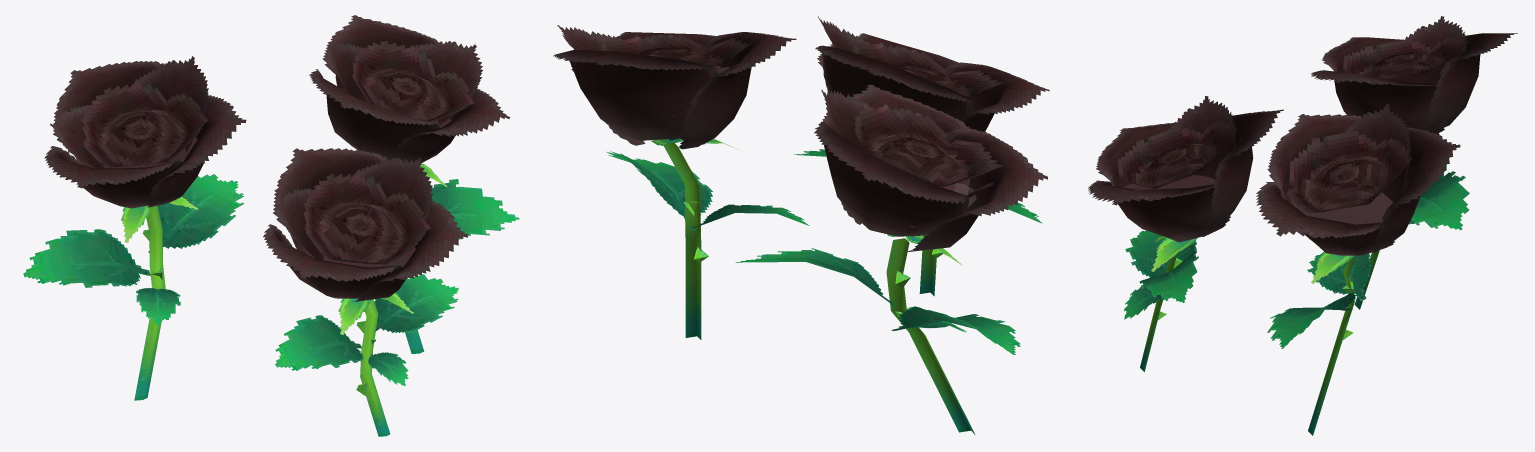
The model's file is black-roses.glb.
3 renders of one model, left to right at view 1: azimuth 30°, elevation 25°; view 2: azimuth 150°, elevation 25°; view 3: azimuth 270°, elevation 25°, orthographic. The views are drawn at different scales.
Size of the model in its own units: 10.07 by 6.53 by 8.37.
2 materials, 2 textured.
